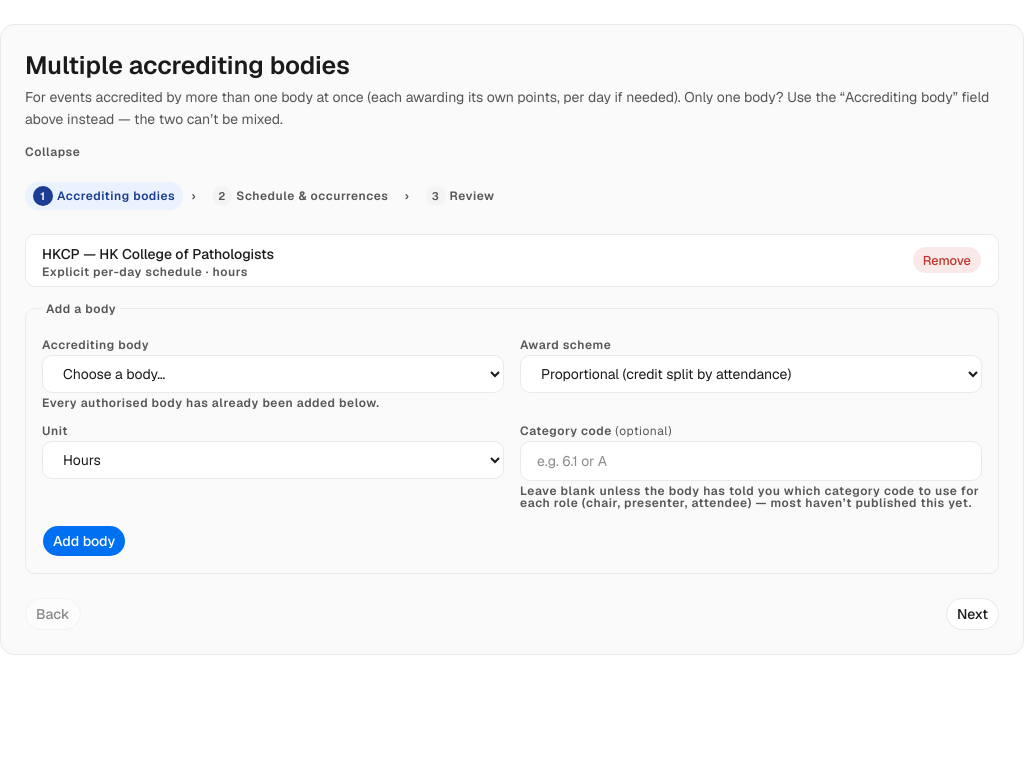
MultiBodyAccreditationWizard › abandons the removal when the confirm step is cancelled
Click the button "Remove".
click(947, 260)  # box [912,246,982,274]
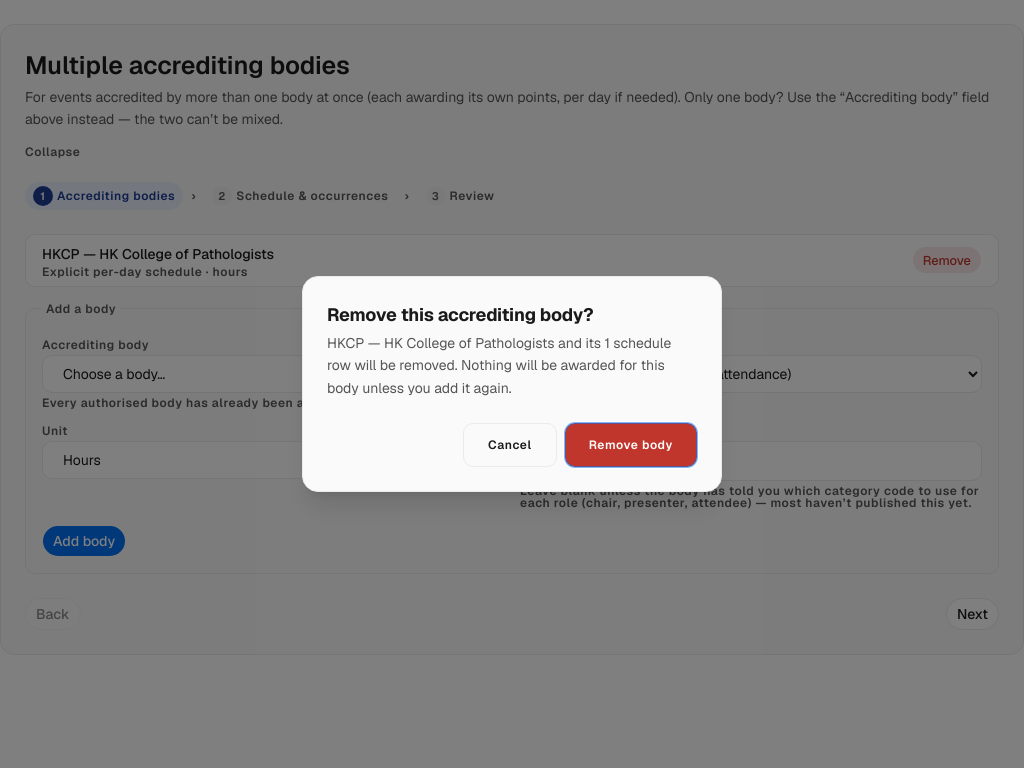
Click the button "Cancel".
click(510, 445)  # box [463,423,557,467]
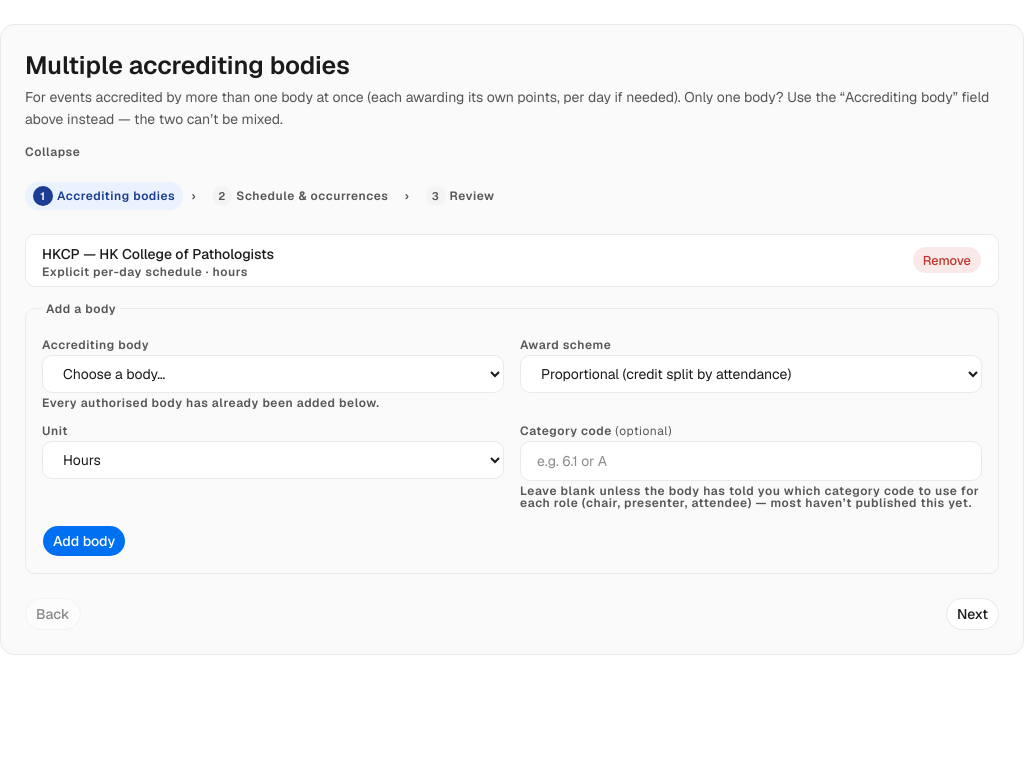
Expected: the dialog is gone
